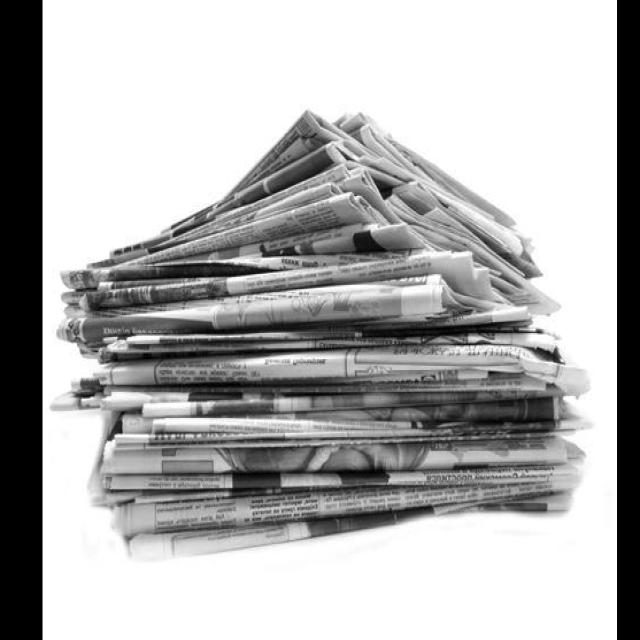Koran: (50, 107, 593, 560)
